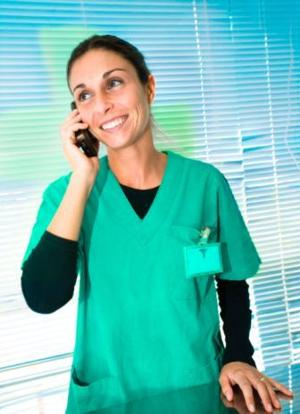person: (21, 36, 295, 413)
